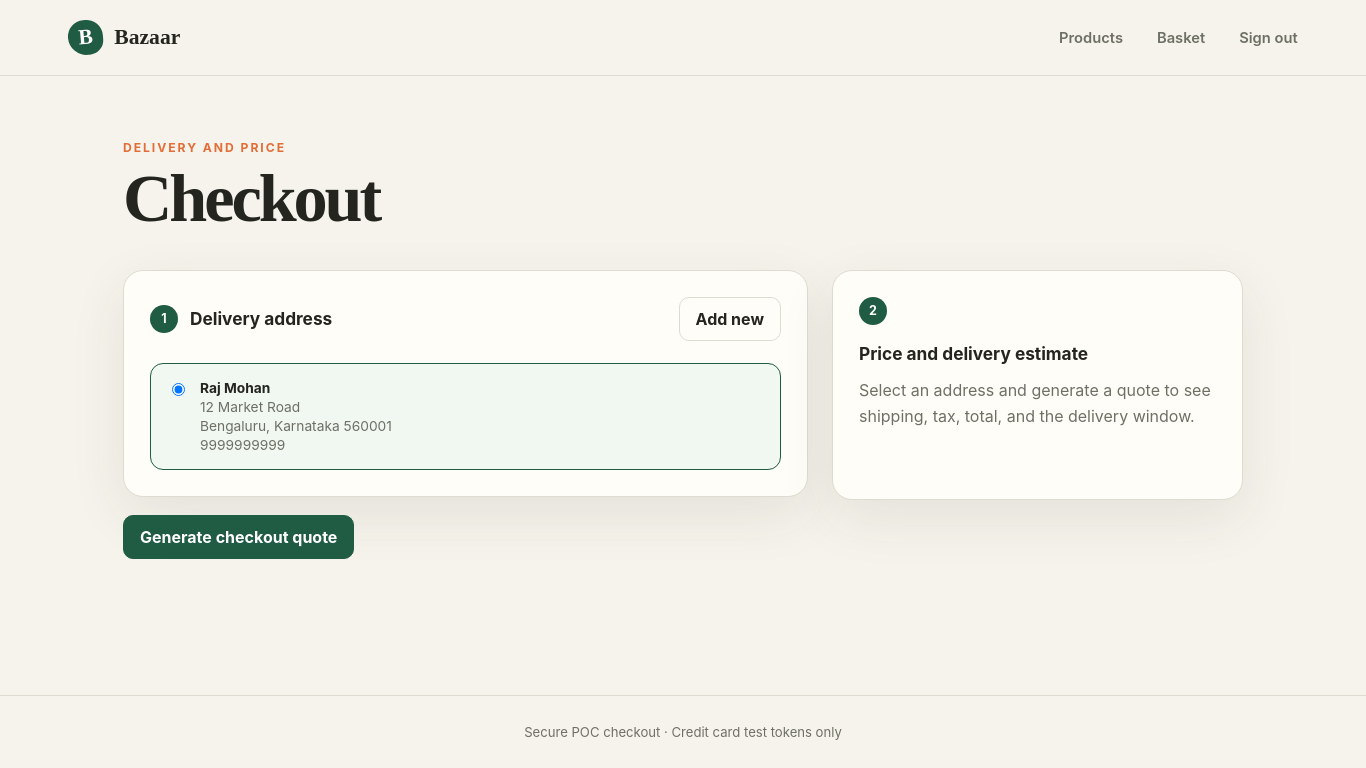
it: commerce web › renders the full checkout price, expiry countdown, and delivery window
This screenshot has width=1366, height=768.
Click the button "Generate checkout quote": (239, 537) [123, 515, 354, 559]
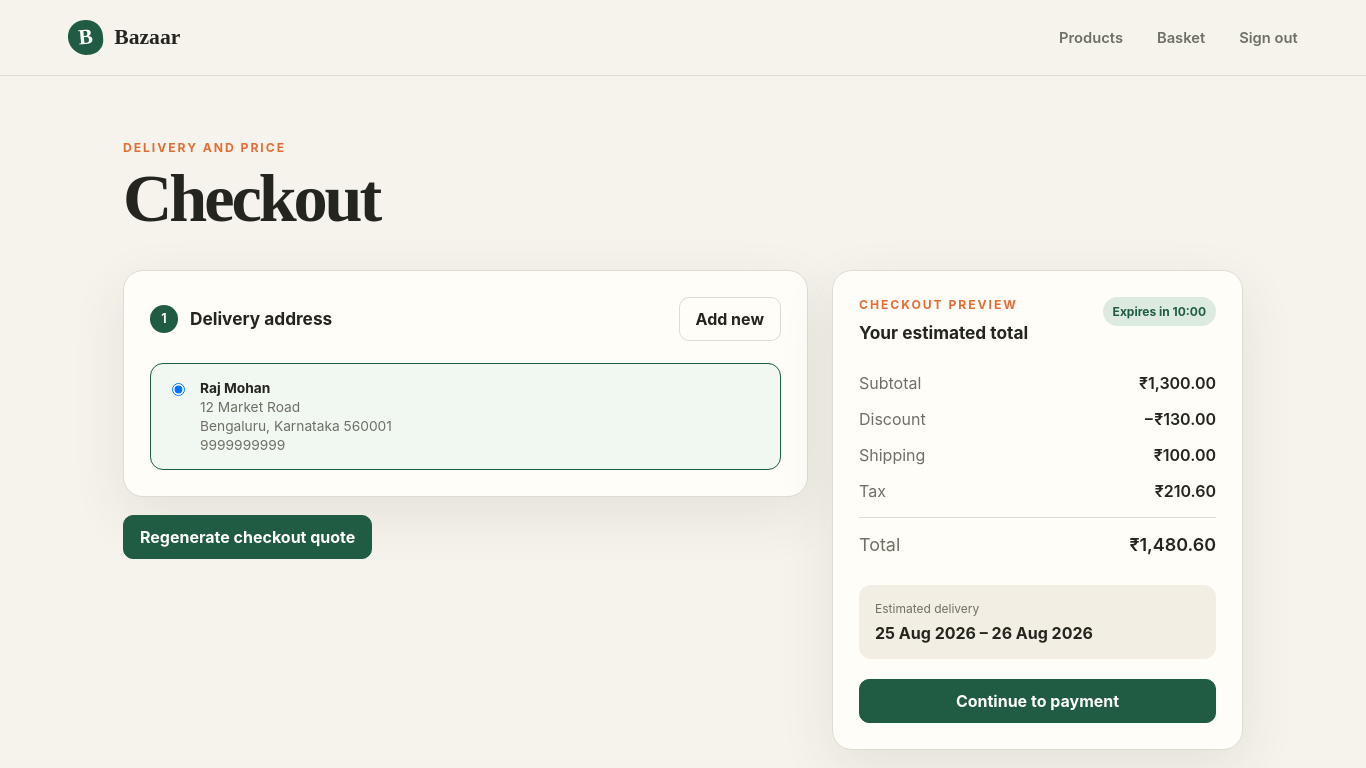
Check: the heading "Your estimated total" is shown, box [859, 322, 1028, 343]
Check: the text "Subtotal" is shown, box [859, 373, 921, 393]
Check: the text "Discount" is shown, box [859, 409, 926, 429]
